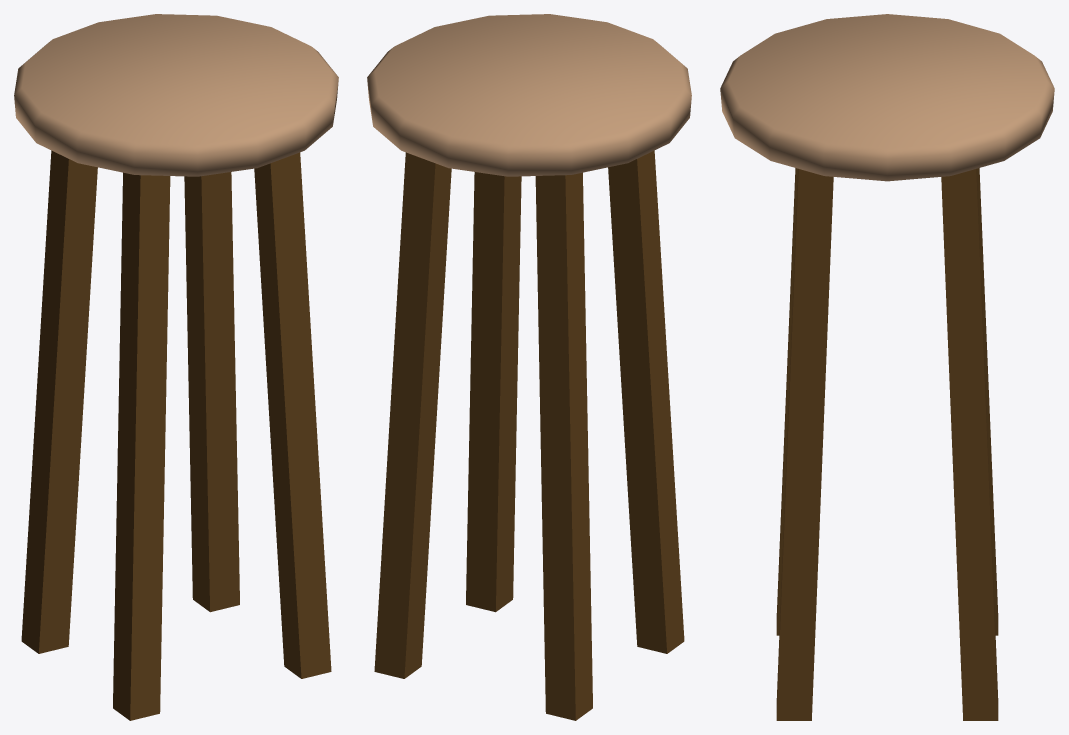
File: Stool.fbx
3 views of the same model, side by side, from view 1: azimuth 30°, elevation 25°; view 2: azimuth 150°, elevation 25°; view 3: azimuth 270°, elevation 25° (orthographic). The views are drawn at different scales.
Visible parts, largest first — view 1: Stool; view 2: Stool; view 3: Stool.
Part boxes in pixels (<box>): Stool: <box>14,14,338,720</box>; Stool: <box>367,14,691,720</box>; Stool: <box>720,14,1054,720</box>.
Size of the model in its own units: 38.94 by 75.7 by 38.94.
